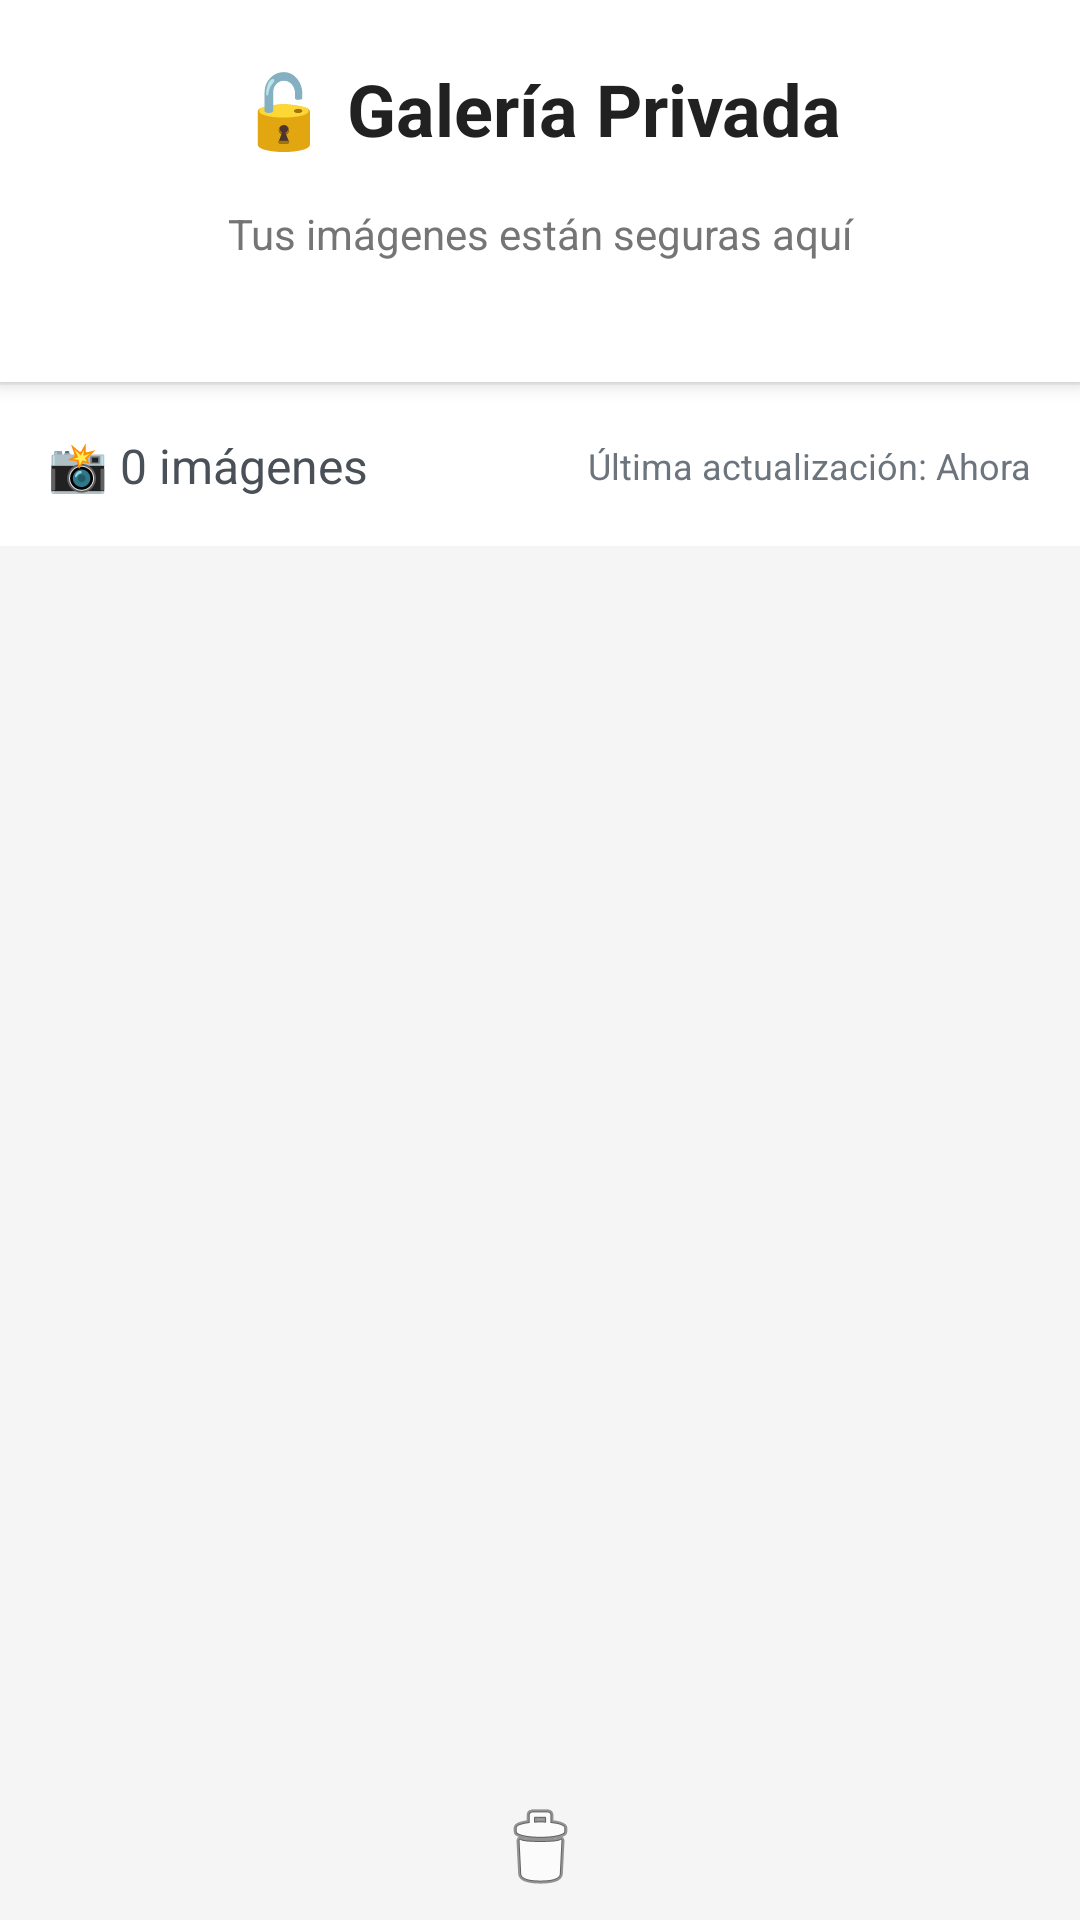

Named icons in this screenshot (1080px×1920px) and their bounding boxes, (x1, y1, x2, y2):
Eliminar imagen: (513, 1809, 568, 1884)
